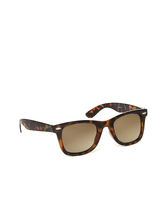glasses: (16, 101, 154, 159)
